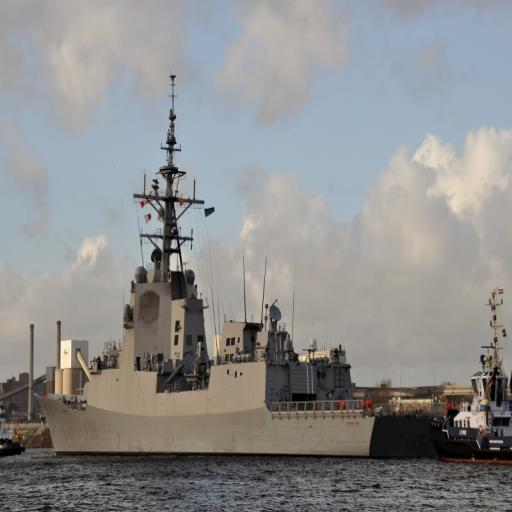Fragata: (33, 65, 449, 462)
